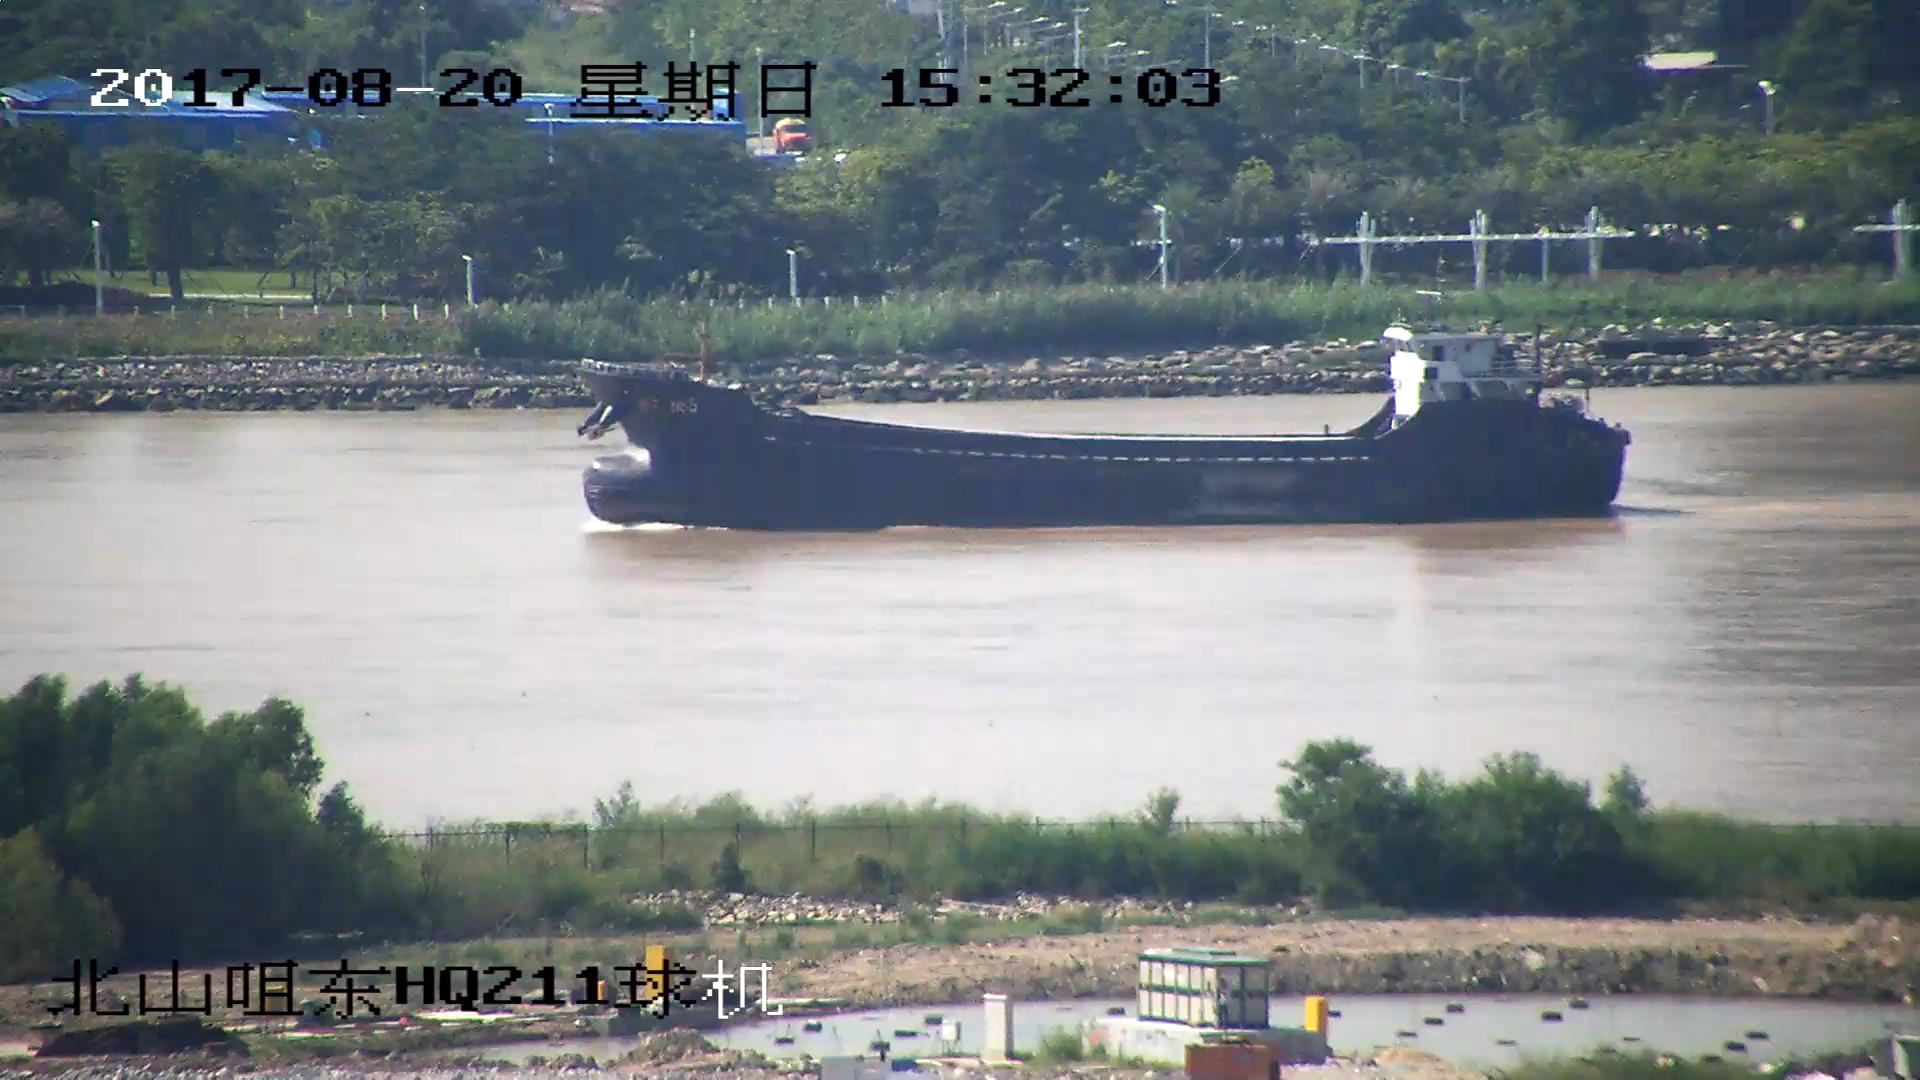general cargo ship: (577, 326, 1635, 524)
